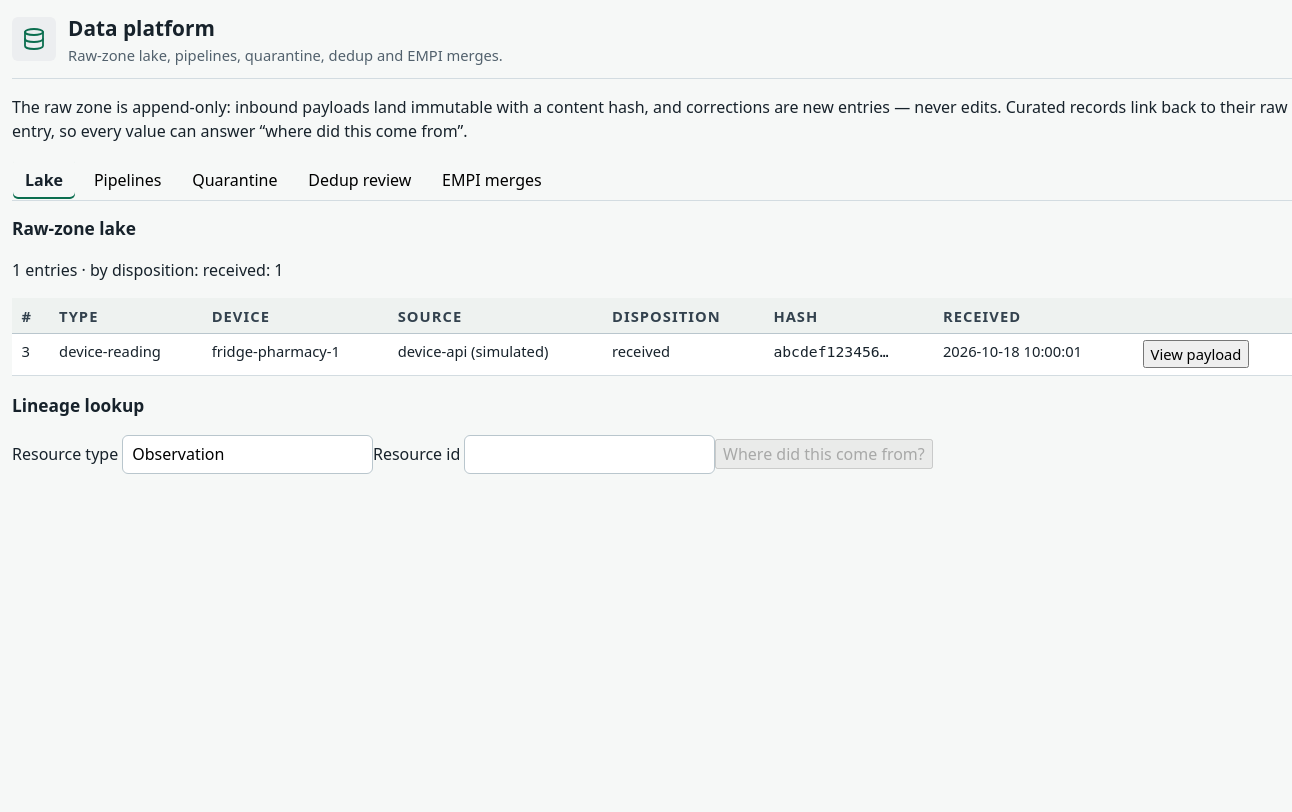
Scenario: DataPlatformPage › shows the raw payload and curated links on demand
This screenshot has width=1292, height=812.
What coordinates should you click on to do the following:
click the button "View payload"
I would click on:
 (1196, 354)
Its box is x1=1142 y1=340 x2=1249 y2=368.
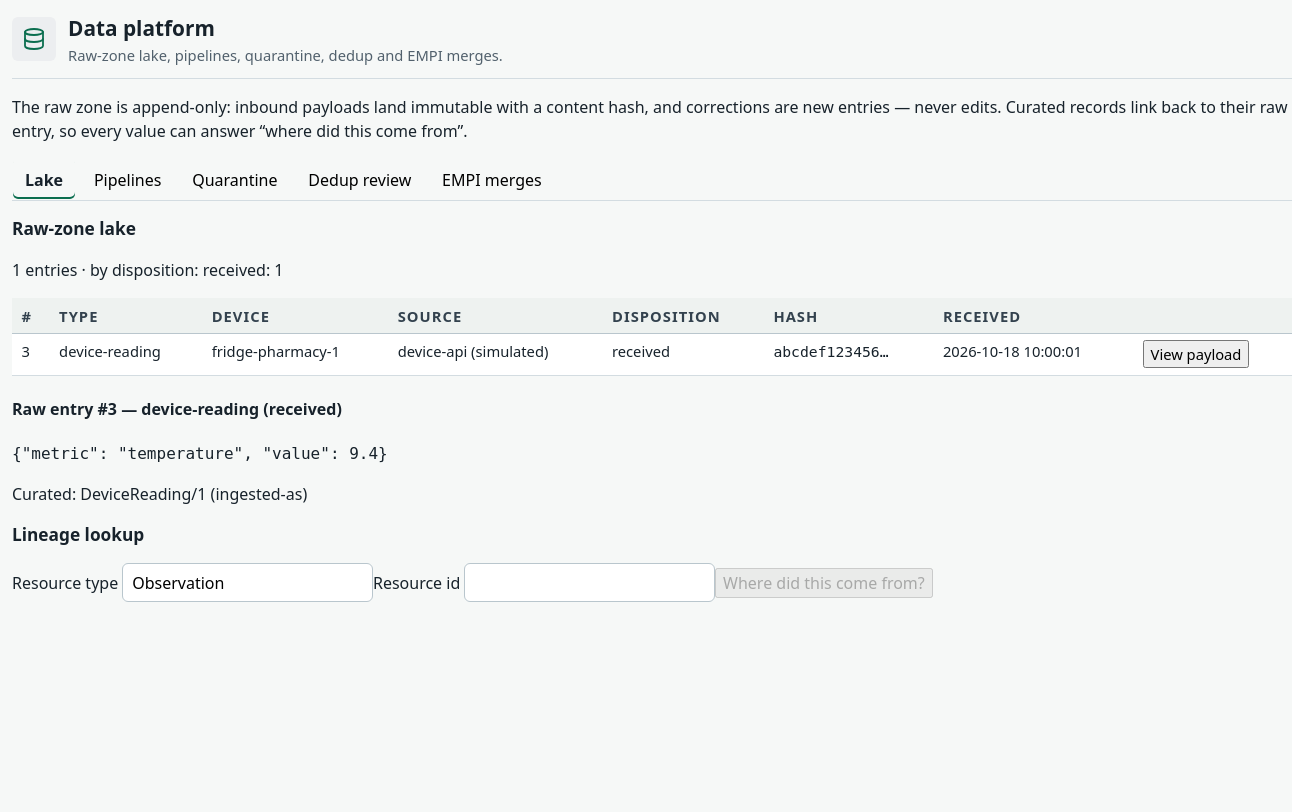
Result: the text "{\"metric\": \"temperature\", \"value\": 9.4}" is shown at x1=12 y1=444 x2=388 y2=463
Result: the text "Curated: DeviceReading/1 (ingested-as)" is shown at x1=12 y1=483 x2=307 y2=505
